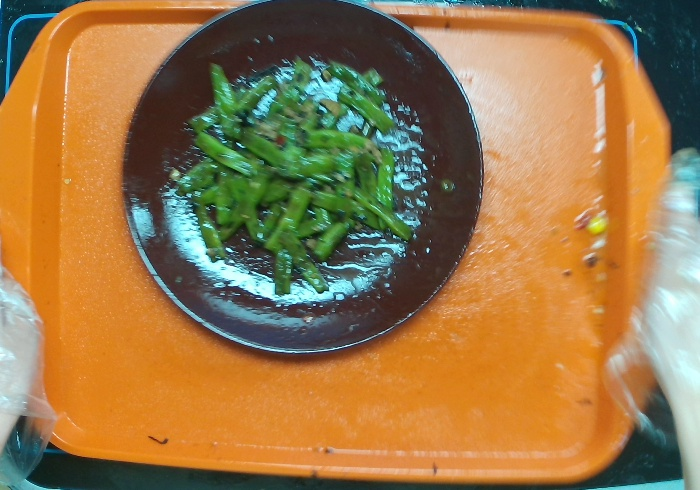HZYJPL-Ka_Fei_Yuan_Pan: (114, 1, 492, 361)
